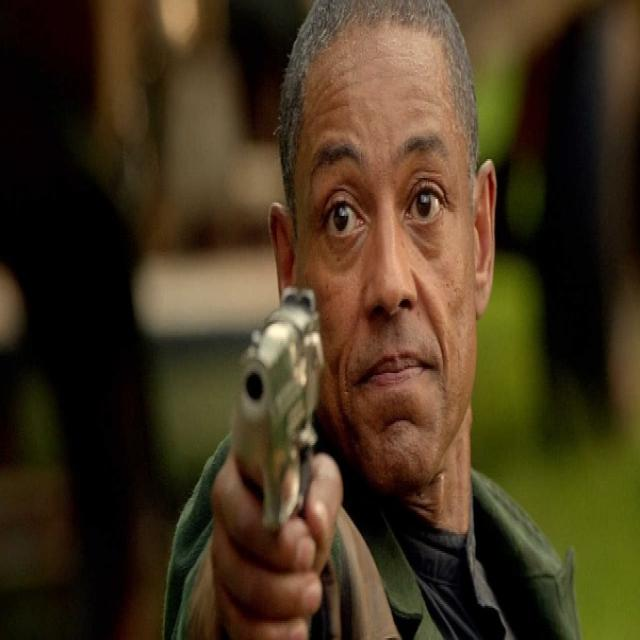weapons: (218, 270, 338, 597)
